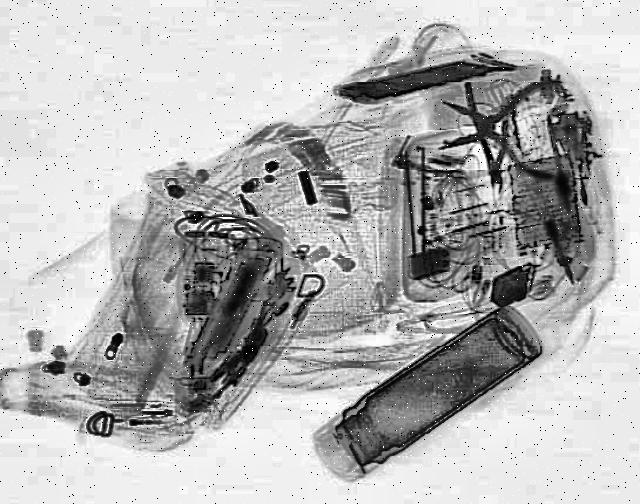Pliers: (434, 82, 560, 178), (462, 83, 514, 195)
